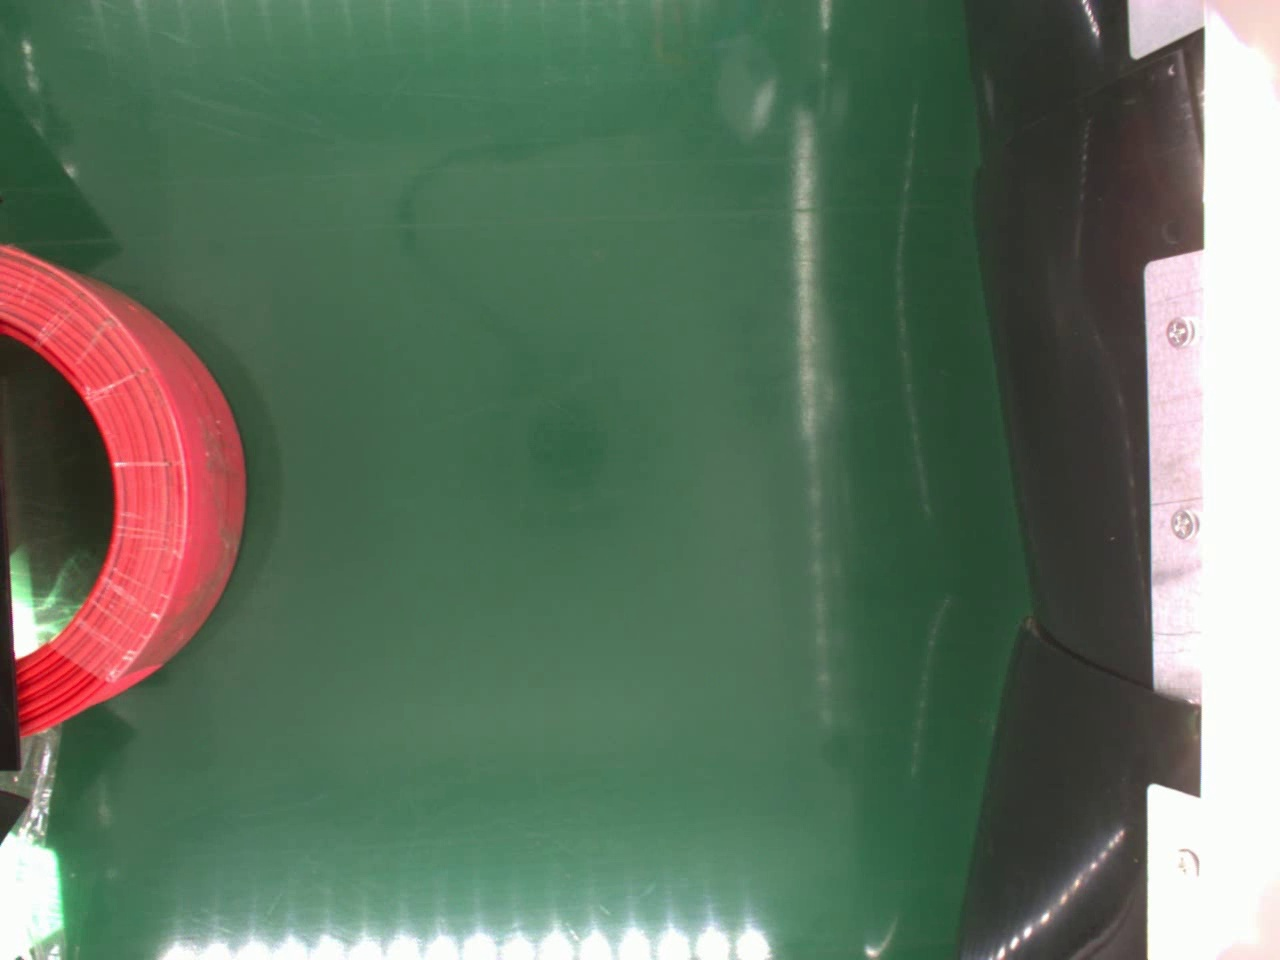red: (0, 244, 250, 735)
